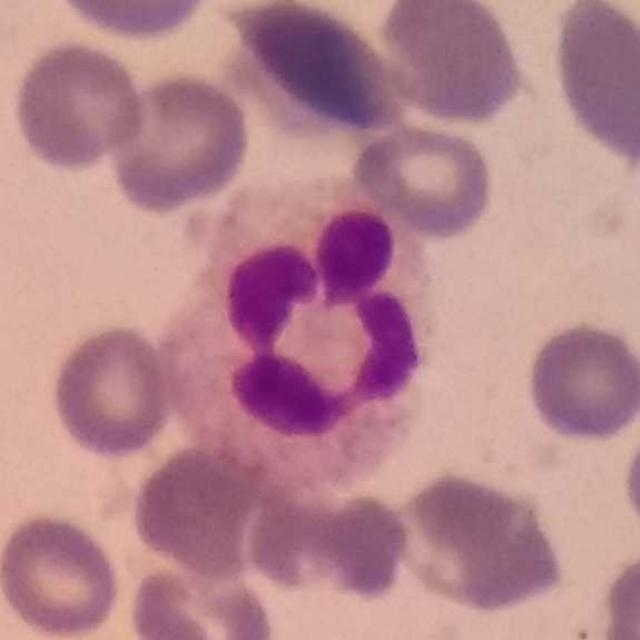Neutrophil: (157, 178, 446, 495)
RBC: (216, 1, 410, 145), (389, 468, 570, 616), (103, 68, 255, 216), (241, 481, 415, 604), (127, 437, 269, 580), (375, 0, 529, 129), (8, 36, 149, 175), (349, 119, 498, 242), (47, 320, 176, 460), (0, 508, 124, 640), (548, 1, 640, 168), (522, 317, 640, 445), (126, 554, 278, 640), (47, 0, 218, 42), (595, 544, 640, 640), (617, 395, 640, 545)
